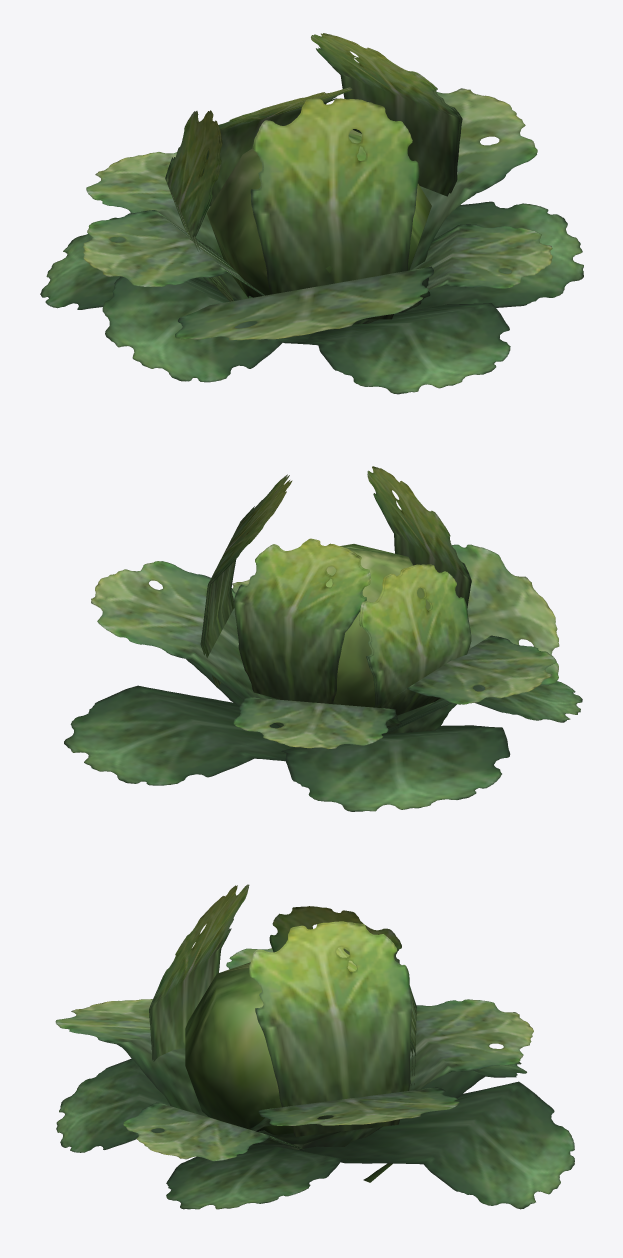
File: wm_蔬菜圆白菜01.fbx
The picture shows the model from 3 angles, top to bottom: view 1: azimuth 30°, elevation 25°; view 2: azimuth 150°, elevation 25°; view 3: azimuth 270°, elevation 25°; orthographic projection. The views are drawn at different scales.
Visible parts, largest first — view 1: wm_蔬菜圆白菜01; view 2: wm_蔬菜圆白菜01; view 3: wm_蔬菜圆白菜01.
Boxes of the visible parts, x1,y1,x2,y2 form: wm_蔬菜圆白菜01: [40, 33, 583, 394]; wm_蔬菜圆白菜01: [64, 466, 582, 811]; wm_蔬菜圆白菜01: [55, 884, 574, 1209].
Size of the model in its own units: 207 by 105 by 216.
